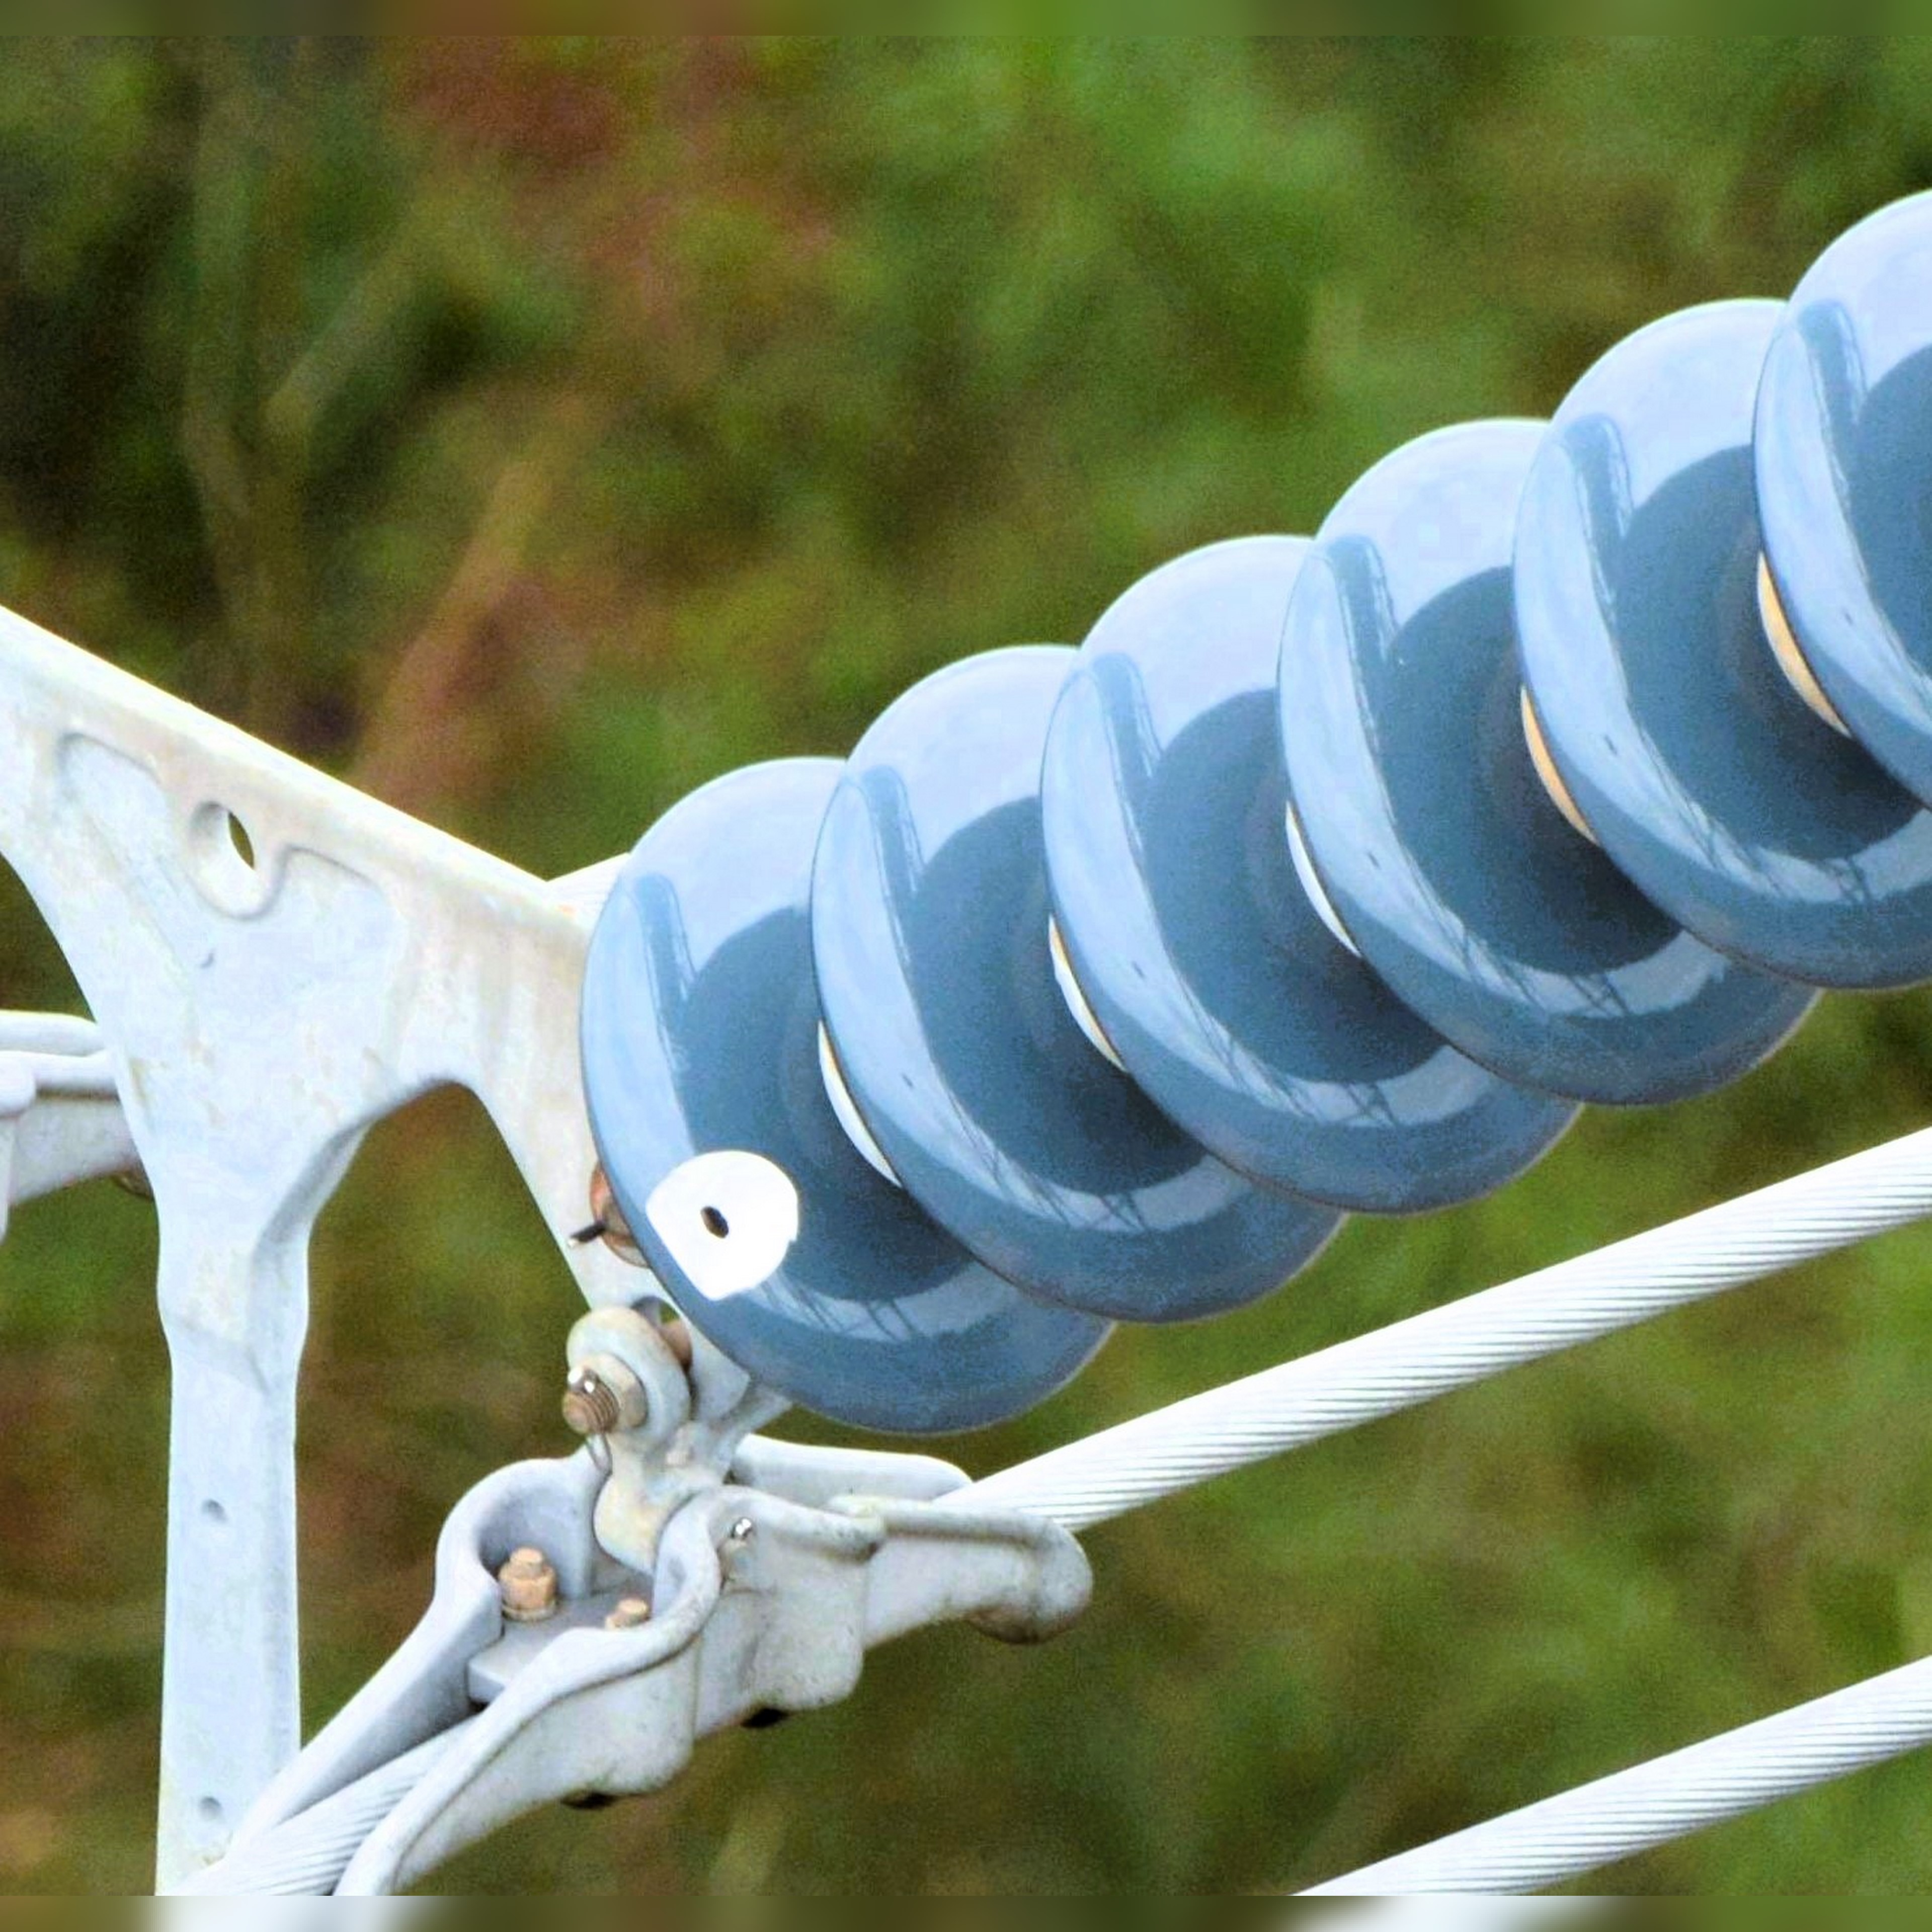insulator breakage: (570, 731, 1070, 1463)
